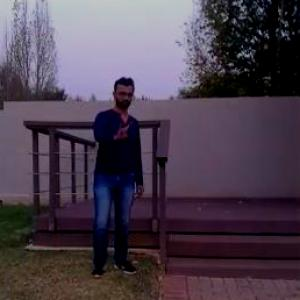takeoff-hand: (104, 112, 137, 146)
